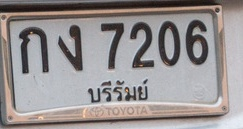txt01: (17, 25, 50, 75)
txt05: (56, 23, 84, 74)
